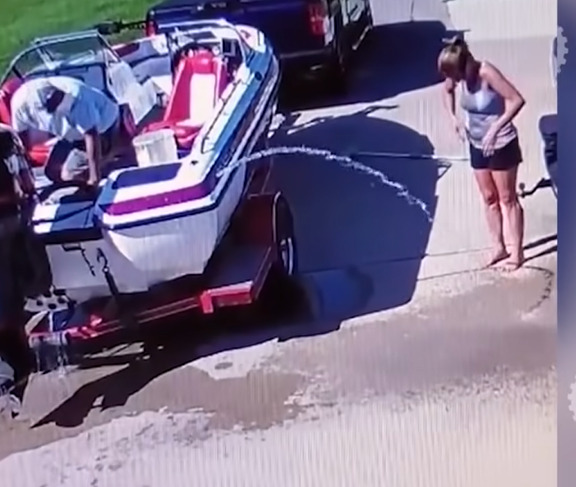person: (435, 35, 530, 271), (9, 75, 121, 188)
